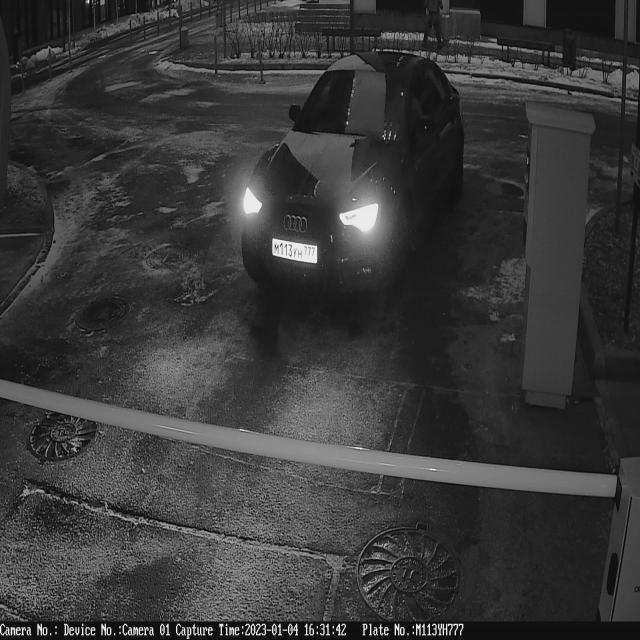car-plate-numbers: (271, 234, 321, 268)
